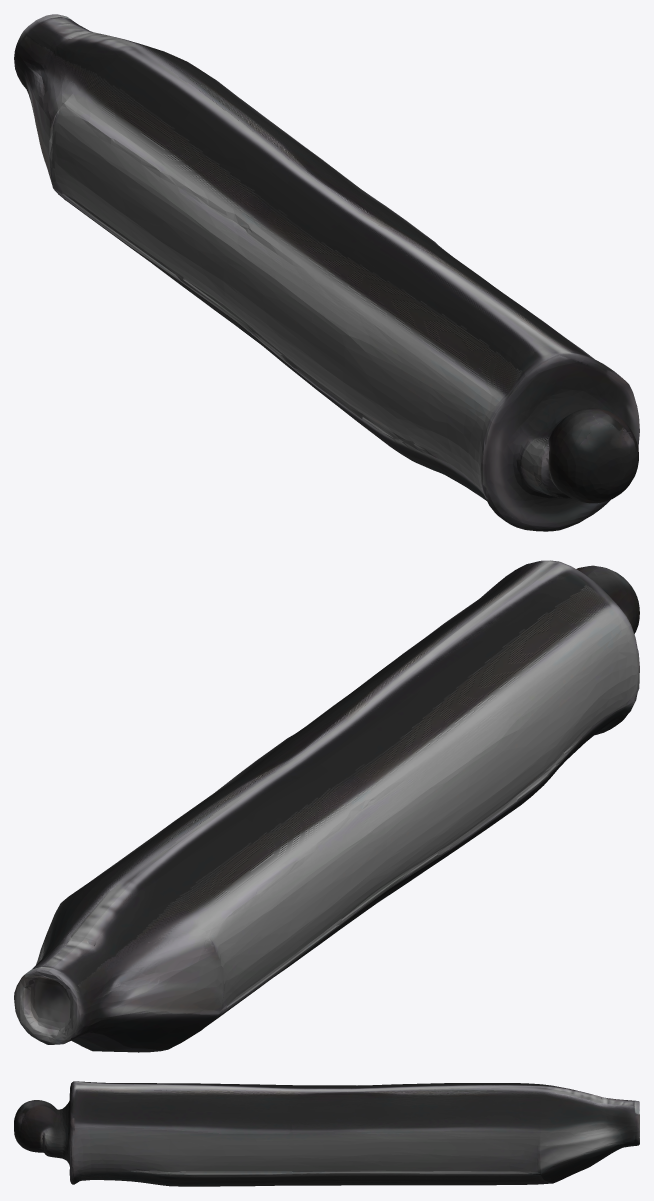
3 renders of one model, top to bottom at view 1: azimuth 30°, elevation 25°; view 2: azimuth 150°, elevation 25°; view 3: azimuth 270°, elevation 25°, orthographic. The views are drawn at different scales.
Parts seen in each view (by area): view 1: pen_23.obj; view 2: pen_23.obj; view 3: pen_23.obj.
Part boxes in pixels (<box>): pen_23.obj: <box>14,14,639,531</box>; pen_23.obj: <box>14,560,639,1052</box>; pen_23.obj: <box>14,1081,639,1186</box>.
Size of the model in its own units: 0.0239 by 0.0235 by 0.1367.
Materials: 1 (1 with a texture image).
